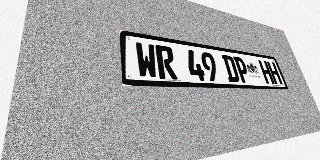4: (185, 49, 206, 81)
9: (200, 51, 220, 82)
D: (221, 55, 240, 82)
H: (258, 60, 275, 84), (266, 61, 283, 84)
P: (233, 56, 251, 83)
R: (155, 45, 178, 80)
W: (135, 42, 159, 79)
